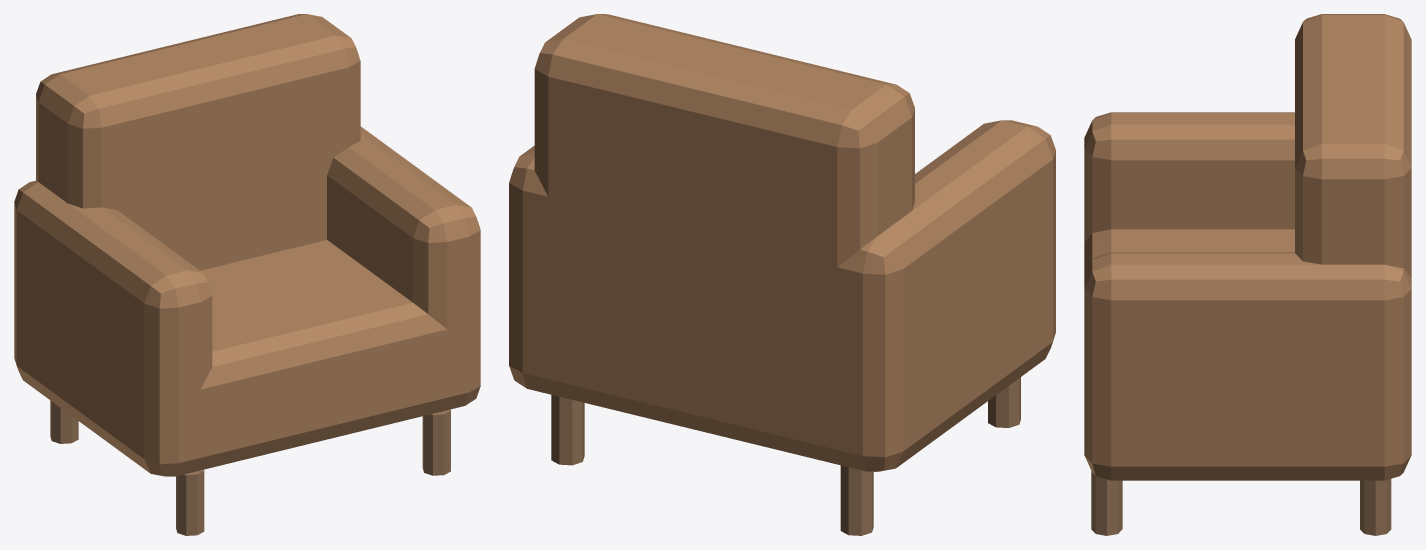
File: cafe-armchair.glb
3 views of the same model, side by side, from view 1: azimuth 30°, elevation 25°; view 2: azimuth 150°, elevation 25°; view 3: azimuth 270°, elevation 25° (orthographic). The views are drawn at different scales.
Visible parts, largest first — view 1: cafe-armchair; view 2: cafe-armchair; view 3: cafe-armchair.
Part boxes in pixels (left/top/right/bottom): cafe-armchair: left=14, top=14, right=480, bottom=535; cafe-armchair: left=509, top=14, right=1055, bottom=535; cafe-armchair: left=1084, top=14, right=1411, bottom=535.
Size of the model in its own units: 0.92 by 0.95 by 0.73.
